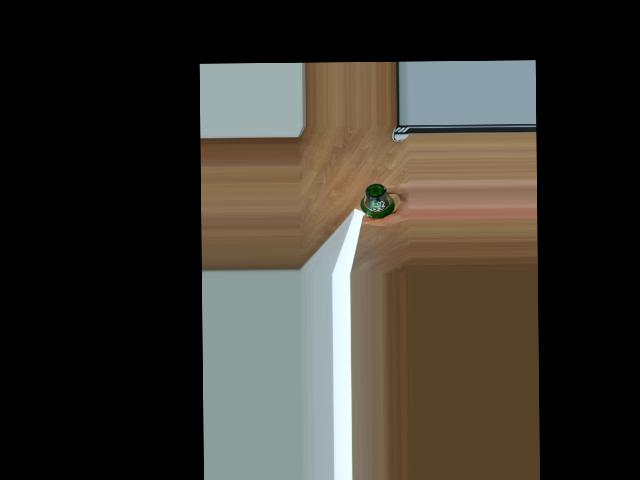beer: (360, 183, 396, 218)
